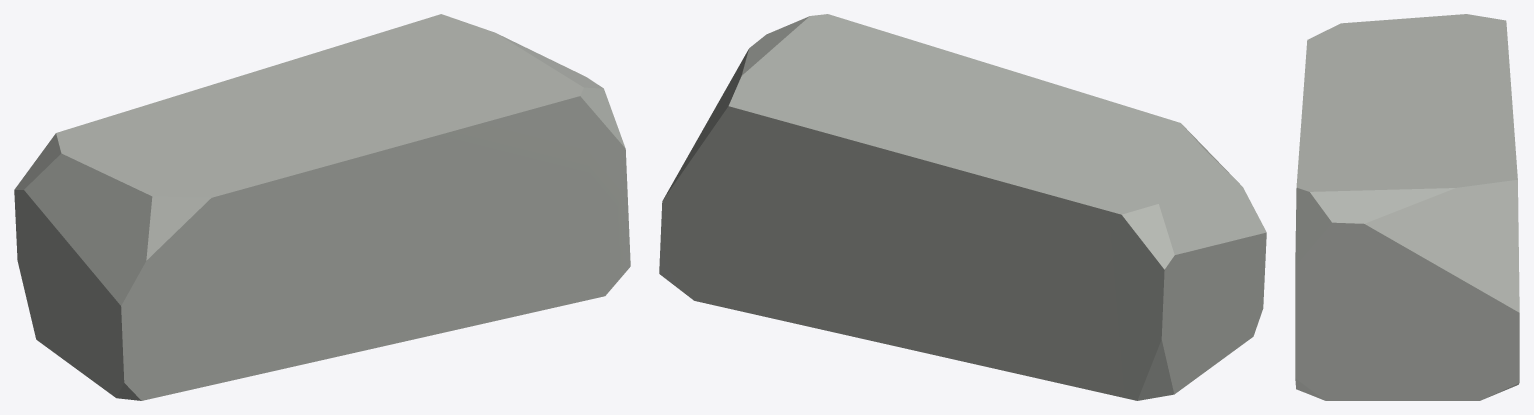
File: rock-square-l-10.glb
3 views of the same model, side by side, from view 1: azimuth 30°, elevation 25°; view 2: azimuth 150°, elevation 25°; view 3: azimuth 270°, elevation 25° (orthographic). The views are drawn at different scales.
Parts seen in each view (by area): view 1: Rock_Square_l_10; view 2: Rock_Square_l_10; view 3: Rock_Square_l_10.
Part boxes in pixels (x1,y1,x2,y2): Rock_Square_l_10: [14, 14, 630, 400]; Rock_Square_l_10: [659, 14, 1266, 400]; Rock_Square_l_10: [1295, 14, 1519, 400].
Size of the model in its own units: 3.48 by 1.36 by 1.45.
Materials: 1 (1 with a texture image).
